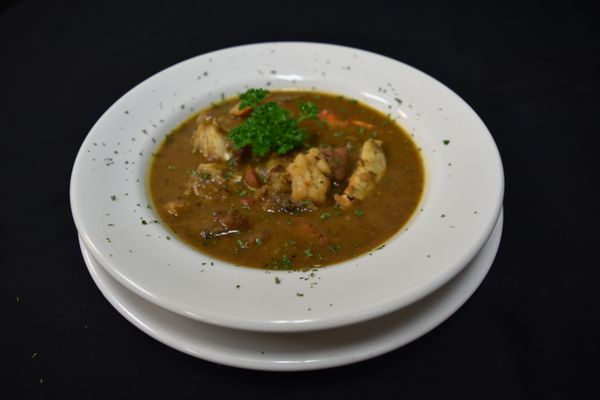curry: (227, 101, 306, 158)
